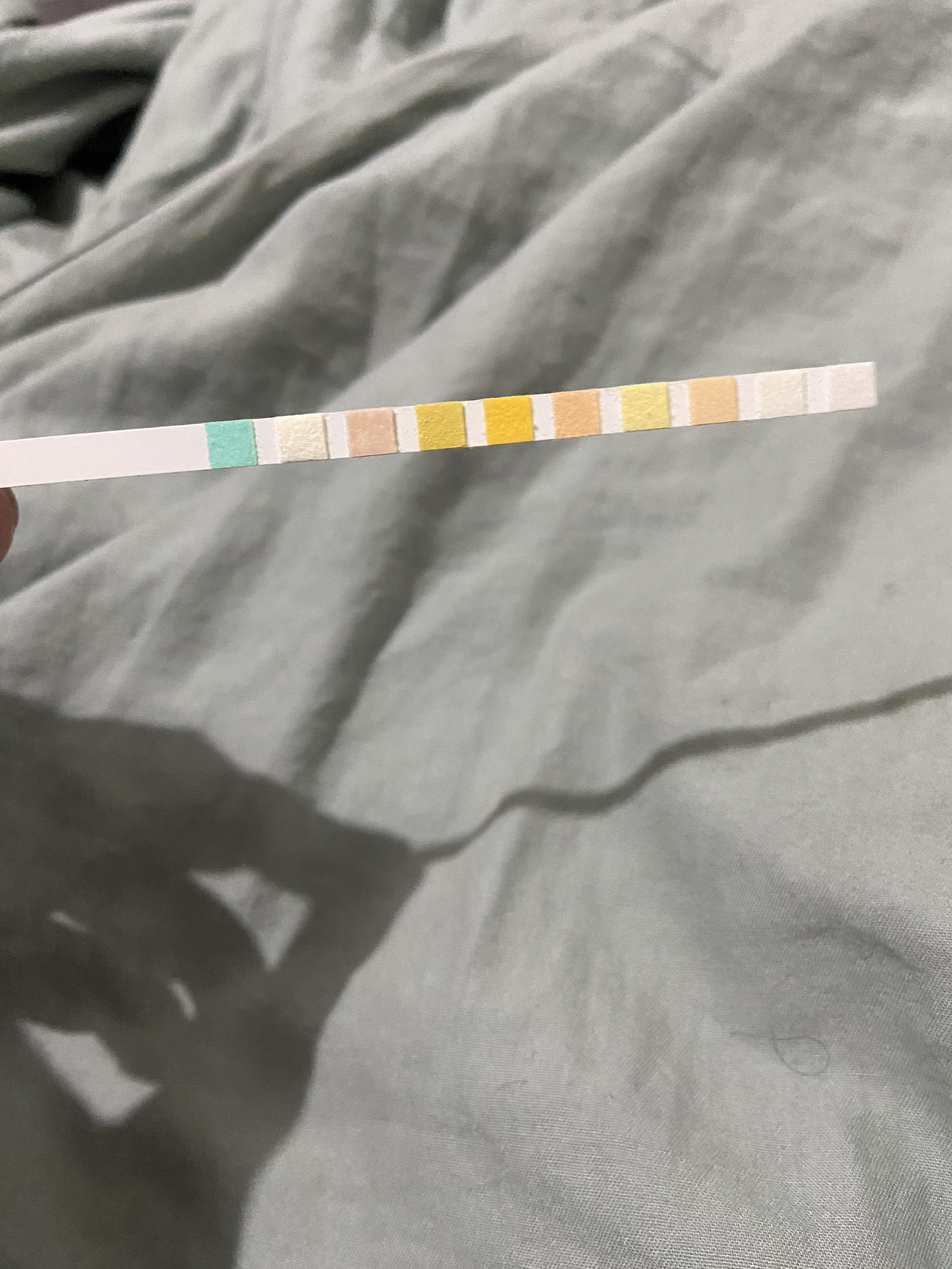Bilirubin: (284, 419, 322, 459)
Blood: (492, 401, 528, 441)
Glucose: (214, 425, 251, 464)
Ketone: (353, 414, 390, 451)
Leukocytes: (835, 368, 870, 406)
Nitrite: (765, 376, 802, 413)
Protein: (631, 388, 662, 427)
SpGravity: (424, 407, 462, 446)
Urobilinogen: (696, 382, 731, 419)
pH: (563, 395, 595, 433)
strip: (6, 364, 875, 485)
